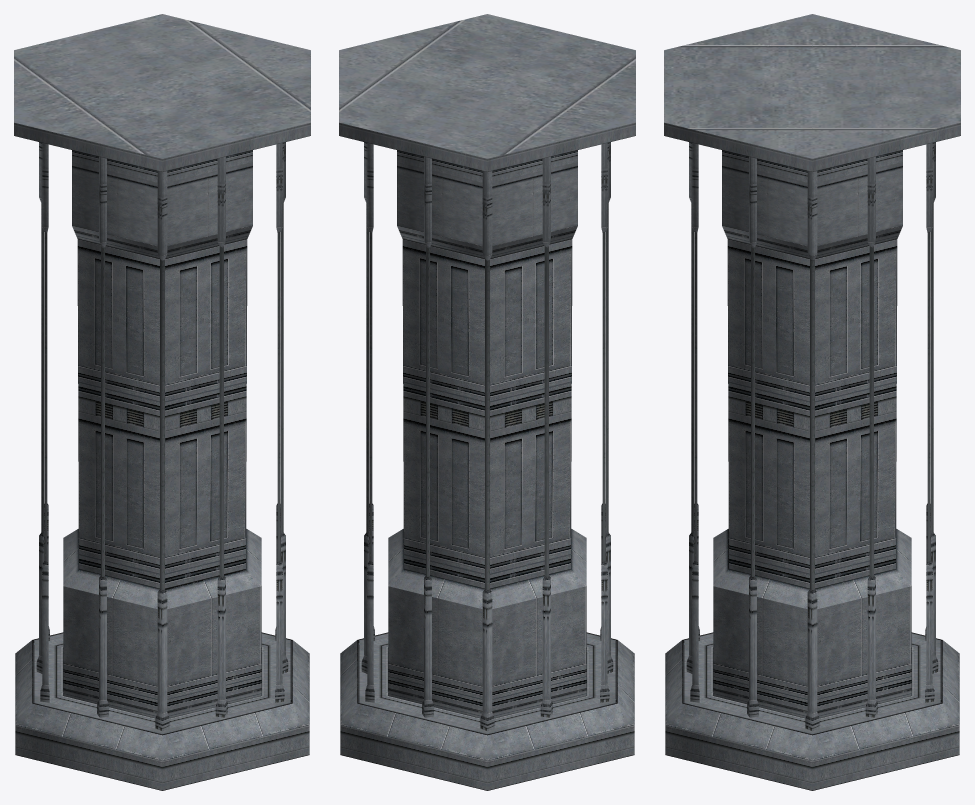
The model's file is poi_all_impl_bunker_pillar_s01_l1.fbx.
3 renders of one model, left to right at view 1: azimuth 30°, elevation 25°; view 2: azimuth 150°, elevation 25°; view 3: azimuth 270°, elevation 25°, orthographic.
Visible parts, largest first — view 1: mesh_node; view 2: mesh_node; view 3: mesh_node.
Boxes of the visible parts, x1=… form: mesh_node: x1=14, y1=14, x2=310, y2=790; mesh_node: x1=339, y1=14, x2=635, y2=790; mesh_node: x1=664, y1=14, x2=960, y2=790.
Size of the model in its own units: 2.78 by 5.67 by 2.41.
Materials: 3 (3 with a texture image).
